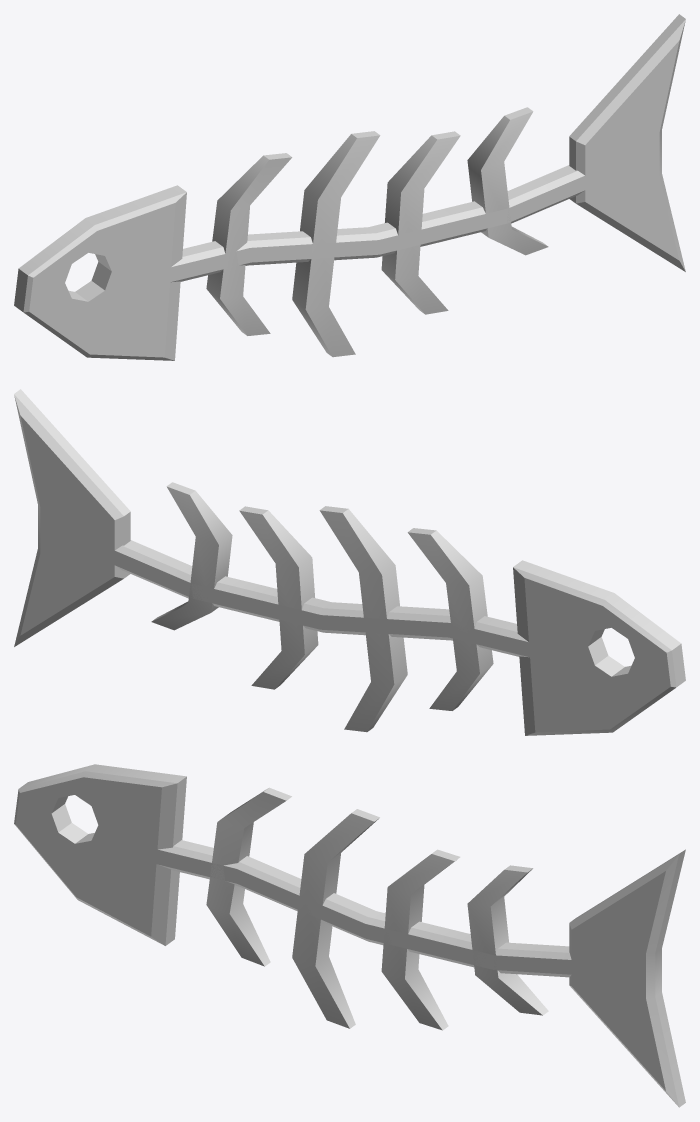
Rendered from fishbone.glb.
3 renders of one model, top to bottom at view 1: azimuth 30°, elevation 25°; view 2: azimuth 150°, elevation 25°; view 3: azimuth 330°, elevation 25°, orthographic.
Parts seen in each view (by area): view 1: polySurface1; view 2: polySurface1; view 3: polySurface1.
Part boxes in pixels (x1=…): polySurface1: x1=14, y1=14, x2=685, y2=360; polySurface1: x1=14, y1=389, x2=685, y2=735; polySurface1: x1=14, y1=764, x2=685, y2=1107.
Bounding box in the file's own units: 0.2835 × 0.1042 × 0.01.
1 material, 1 textured.
